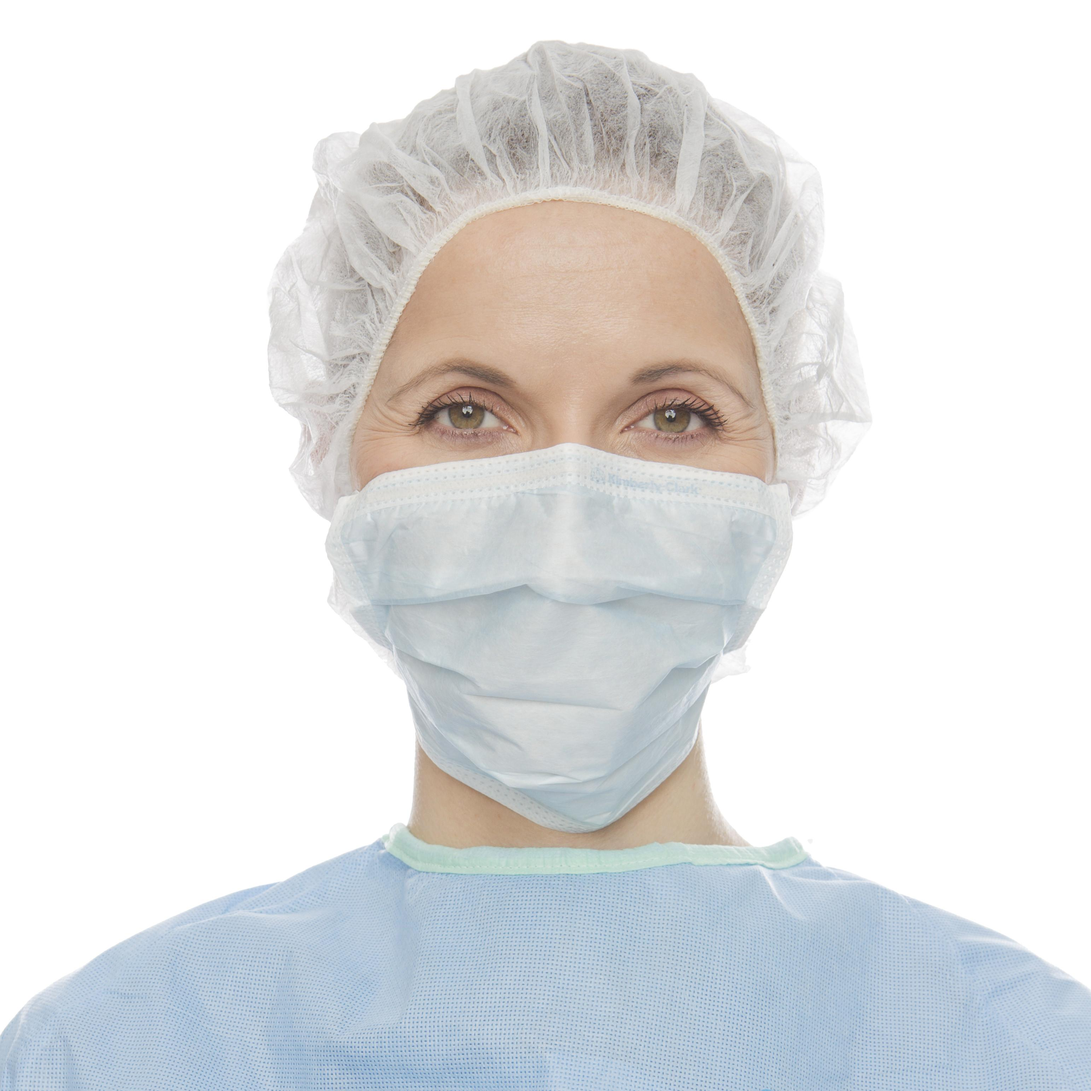Wearing Mask: (218, 43, 948, 834)
